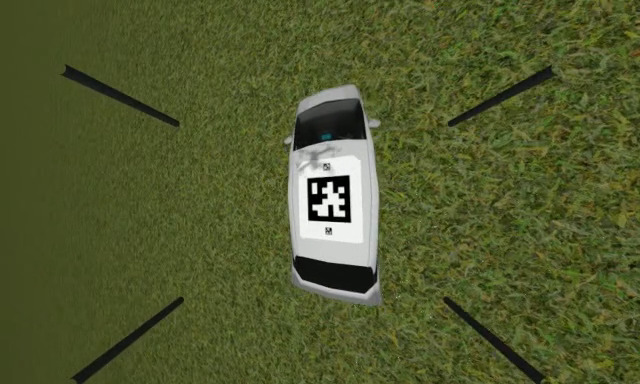Car: (284, 83, 384, 309)
Landing Pad: (298, 156, 365, 244)
